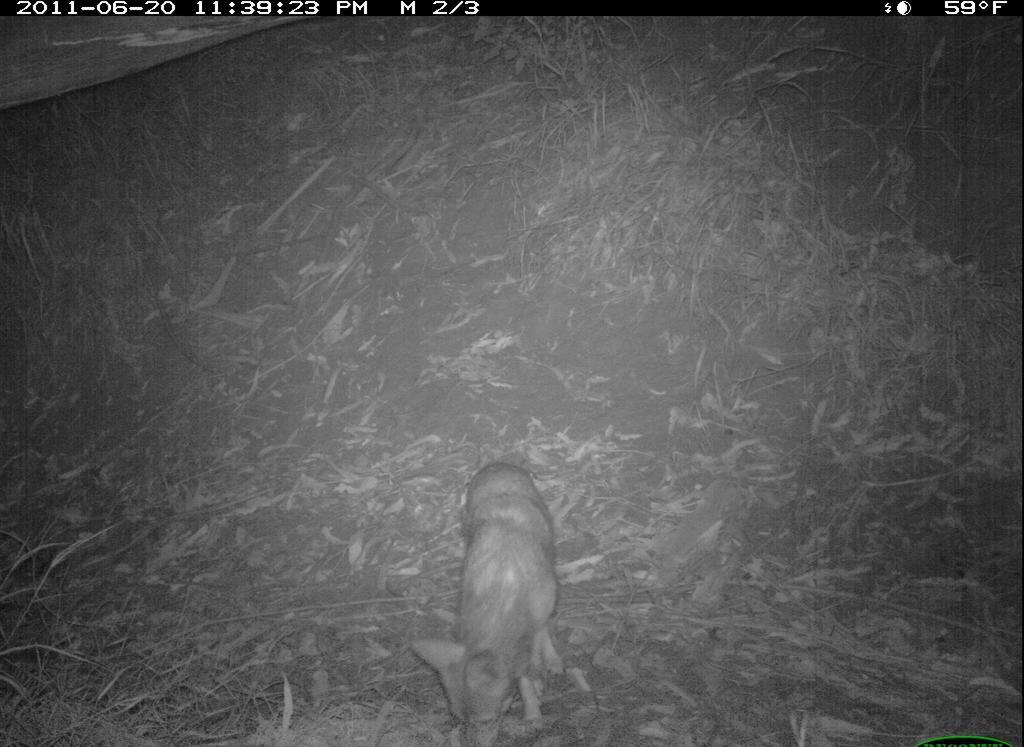coyote: (411, 447, 578, 745)
